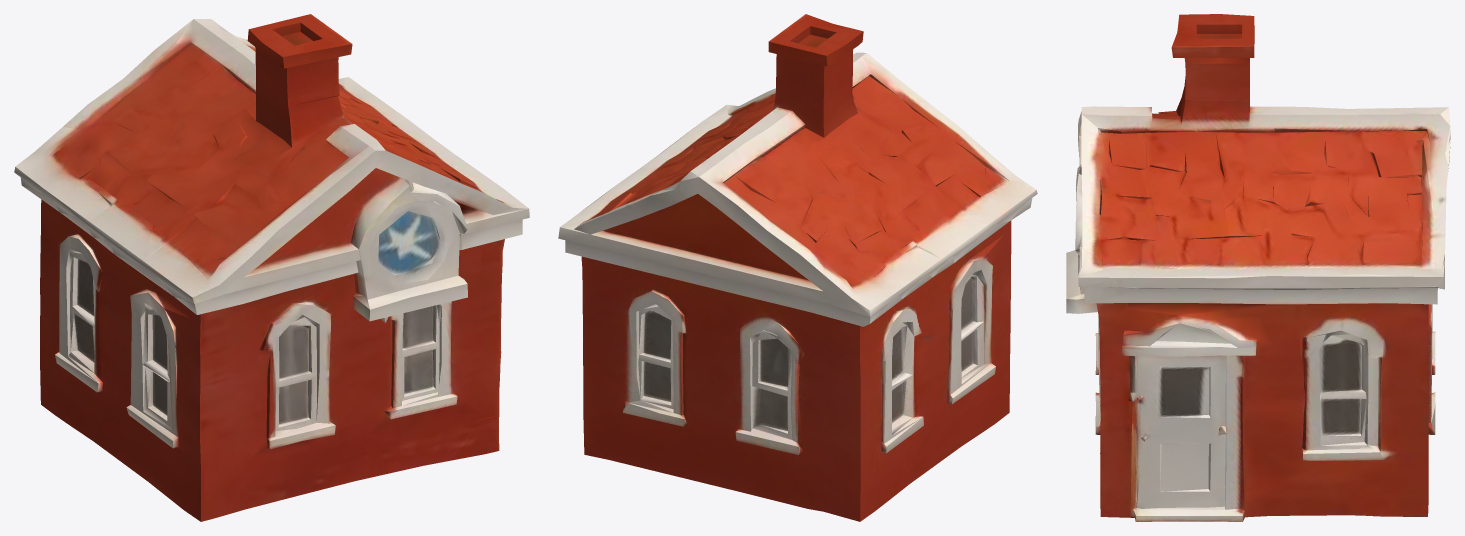
File: postOffice.glb
3 views of the same model, side by side, from view 1: azimuth 30°, elevation 25°; view 2: azimuth 150°, elevation 25°; view 3: azimuth 270°, elevation 25° (orthographic). The views are drawn at different scales.
Parts seen in each view (by area): view 1: model; view 2: model; view 3: model.
Boxes of the visible parts, x1=… form: model: x1=14, y1=14, x2=529, y2=521; model: x1=558, y1=14, x2=1037, y2=521; model: x1=1066, y1=14, x2=1450, y2=521.
Bounding box in the file's own units: 1.64 × 1.9 × 1.6.
1 material, 1 textured.
